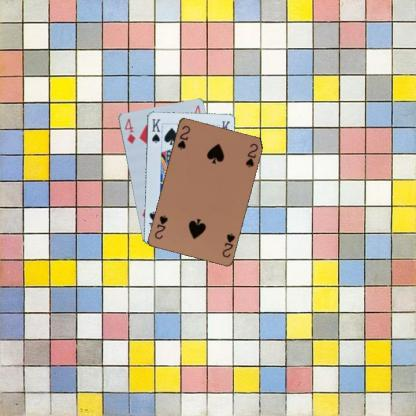2s: (174, 122, 192, 151), (220, 231, 236, 258)
4d: (122, 116, 136, 145)
Ks: (149, 116, 161, 144)
